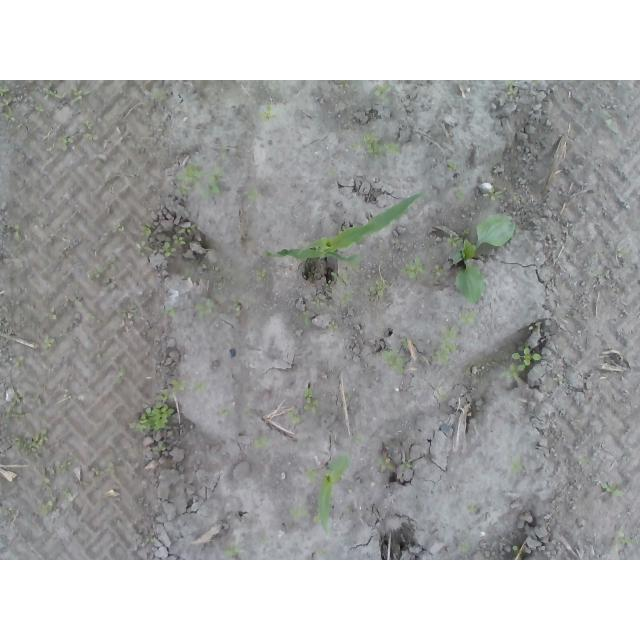Maize: (258, 193, 424, 262), (317, 452, 354, 537)
Weeds: (445, 213, 515, 303), (173, 161, 225, 195), (498, 348, 542, 385), (128, 401, 176, 432), (351, 130, 402, 158), (433, 326, 460, 366), (2, 429, 48, 451), (87, 256, 118, 288), (32, 462, 66, 486), (381, 348, 410, 373), (399, 256, 424, 281), (612, 526, 636, 551), (0, 398, 24, 423), (159, 378, 185, 401), (135, 223, 153, 256), (303, 387, 322, 418), (0, 84, 14, 120), (257, 103, 279, 124), (194, 300, 216, 320), (370, 279, 391, 298), (173, 227, 191, 249), (118, 303, 140, 321), (254, 266, 270, 290), (270, 81, 290, 100), (288, 505, 309, 522), (481, 187, 504, 202), (457, 310, 478, 326), (602, 482, 624, 497), (375, 456, 395, 472), (331, 271, 352, 286), (432, 383, 448, 402), (372, 83, 392, 98), (287, 406, 302, 426), (160, 241, 177, 258), (45, 83, 63, 99), (68, 86, 80, 110), (599, 108, 613, 128), (510, 454, 522, 477), (42, 495, 55, 515), (80, 304, 95, 321), (506, 80, 520, 98), (91, 466, 112, 478), (221, 544, 240, 557), (433, 262, 448, 278), (151, 86, 166, 102), (159, 303, 176, 317), (113, 367, 127, 384), (241, 189, 258, 202), (397, 460, 415, 472), (445, 159, 459, 174), (1, 505, 16, 519), (192, 381, 208, 394), (303, 468, 319, 481), (41, 334, 54, 350), (84, 120, 93, 143), (230, 294, 241, 312), (340, 291, 353, 306), (615, 247, 631, 259), (254, 437, 271, 448), (459, 542, 473, 554), (152, 442, 166, 454), (111, 222, 126, 233), (48, 305, 58, 320), (303, 310, 312, 326), (58, 135, 71, 146), (310, 295, 323, 306), (353, 434, 364, 447), (14, 224, 22, 241), (578, 455, 590, 466), (552, 373, 564, 384), (338, 80, 354, 88), (400, 335, 409, 349), (327, 167, 338, 178), (467, 503, 478, 514), (455, 190, 465, 202), (33, 101, 45, 111), (218, 407, 230, 417), (329, 320, 338, 332), (145, 536, 155, 545), (16, 359, 25, 369), (259, 536, 269, 545), (64, 488, 73, 497), (512, 545, 519, 552)
